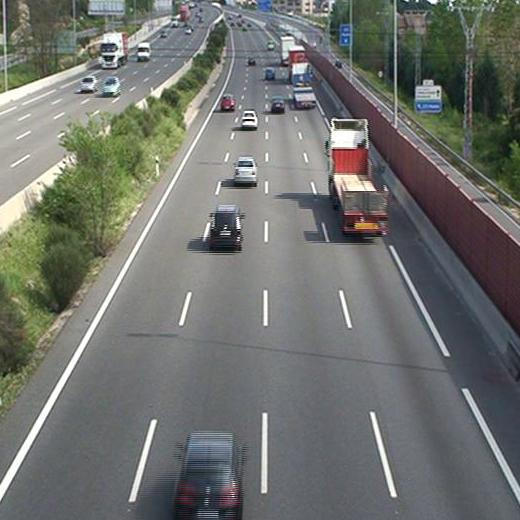car: (175, 432, 241, 520), (210, 206, 244, 249), (233, 159, 257, 185), (241, 109, 260, 129), (271, 96, 286, 113), (221, 95, 235, 111), (263, 66, 276, 81)
truck: (323, 117, 386, 235), (293, 61, 316, 111)
